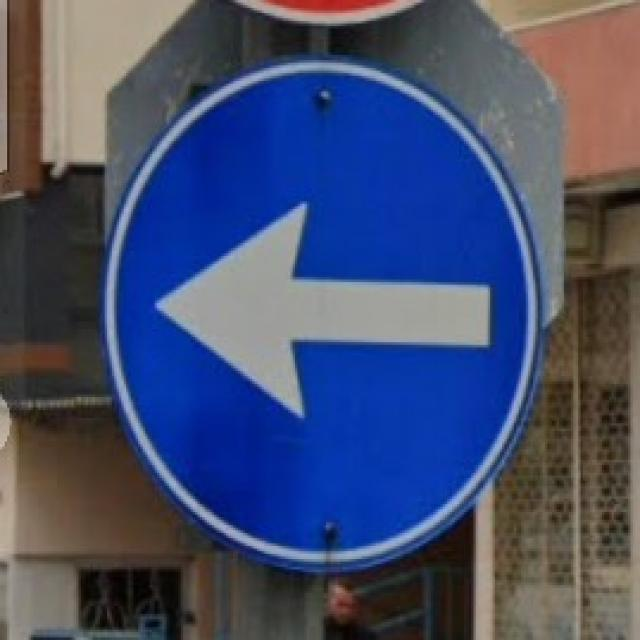Turn Left: (89, 61, 558, 563)
